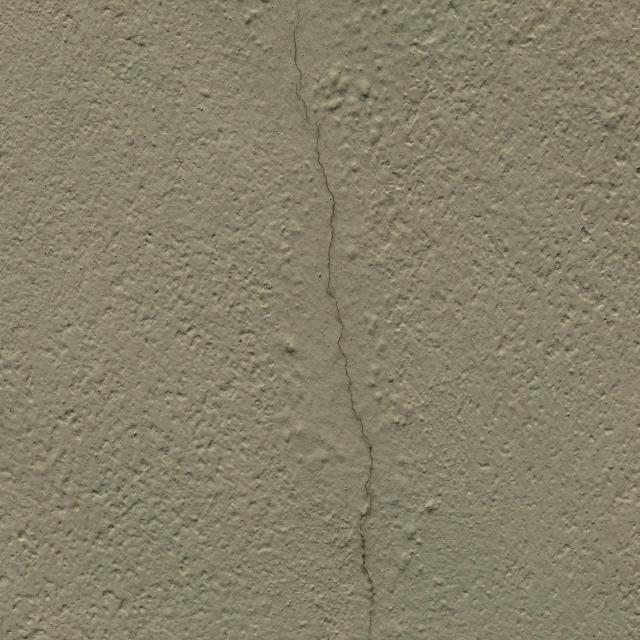SurfaceCrack: (254, 1, 412, 640)
